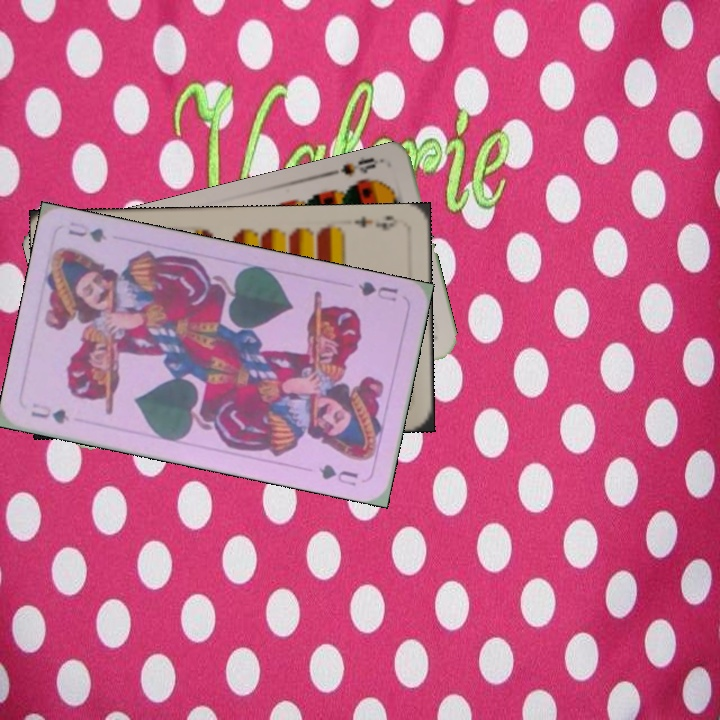E9: (350, 212, 401, 234)
GU: (354, 277, 401, 305), (27, 399, 72, 427)
S8: (336, 153, 382, 179)
